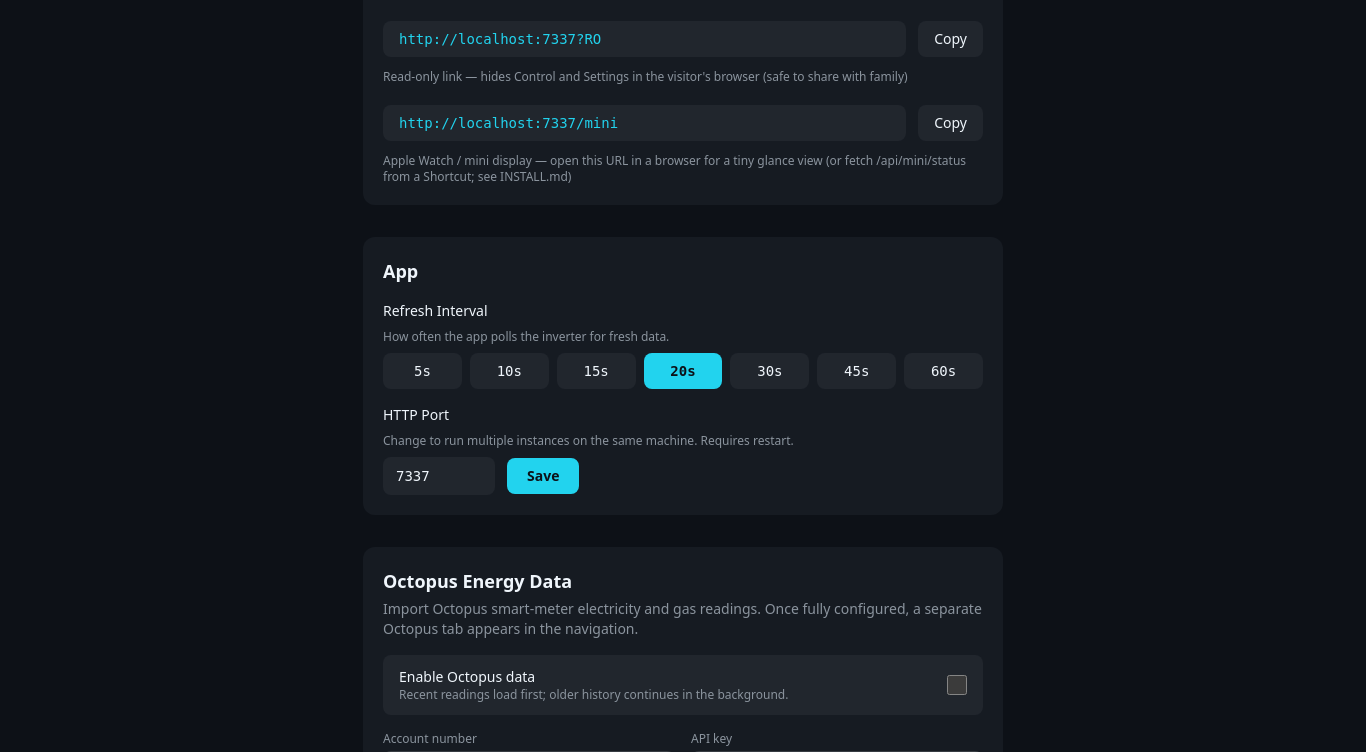
<SettingsPage/> — save handlers & validation › refresh interval change › flashes an error message when the post fails
(page scrolled)
Expected: the text "Refresh Interval" is shown, [383, 301, 488, 320]
Click the button "15s": (596, 371) [557, 353, 636, 389]
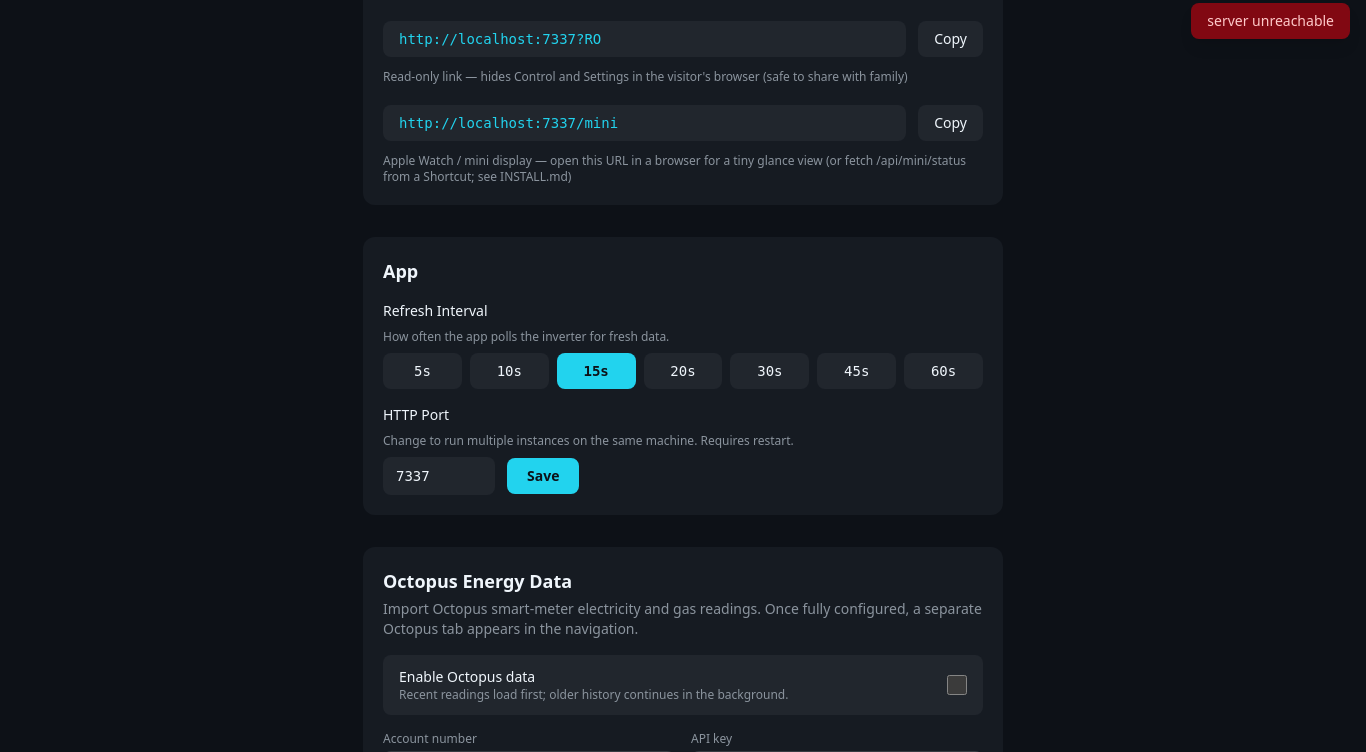
Result: the text "server unreachable" is shown at [1191, 3, 1350, 39]
